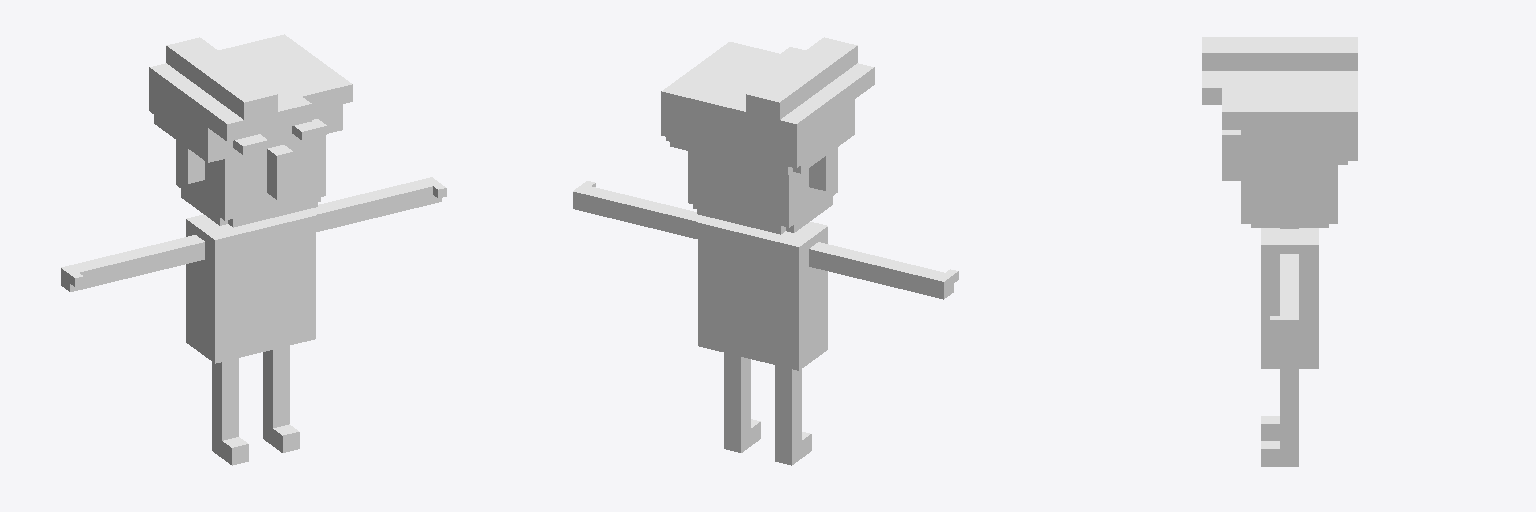
File: Character-Male.obj
The picture shows the model from 3 angles: view 1: azimuth 30°, elevation 25°; view 2: azimuth 150°, elevation 25°; view 3: azimuth 270°, elevation 25°; orthographic projection.
Bounding box in the file's own units: 44 × 44 × 16.